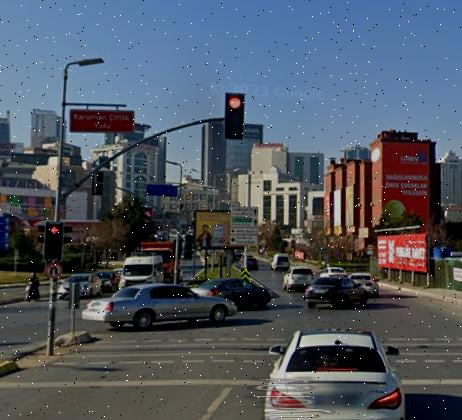redlight: (227, 93, 243, 137), (46, 223, 60, 257)
